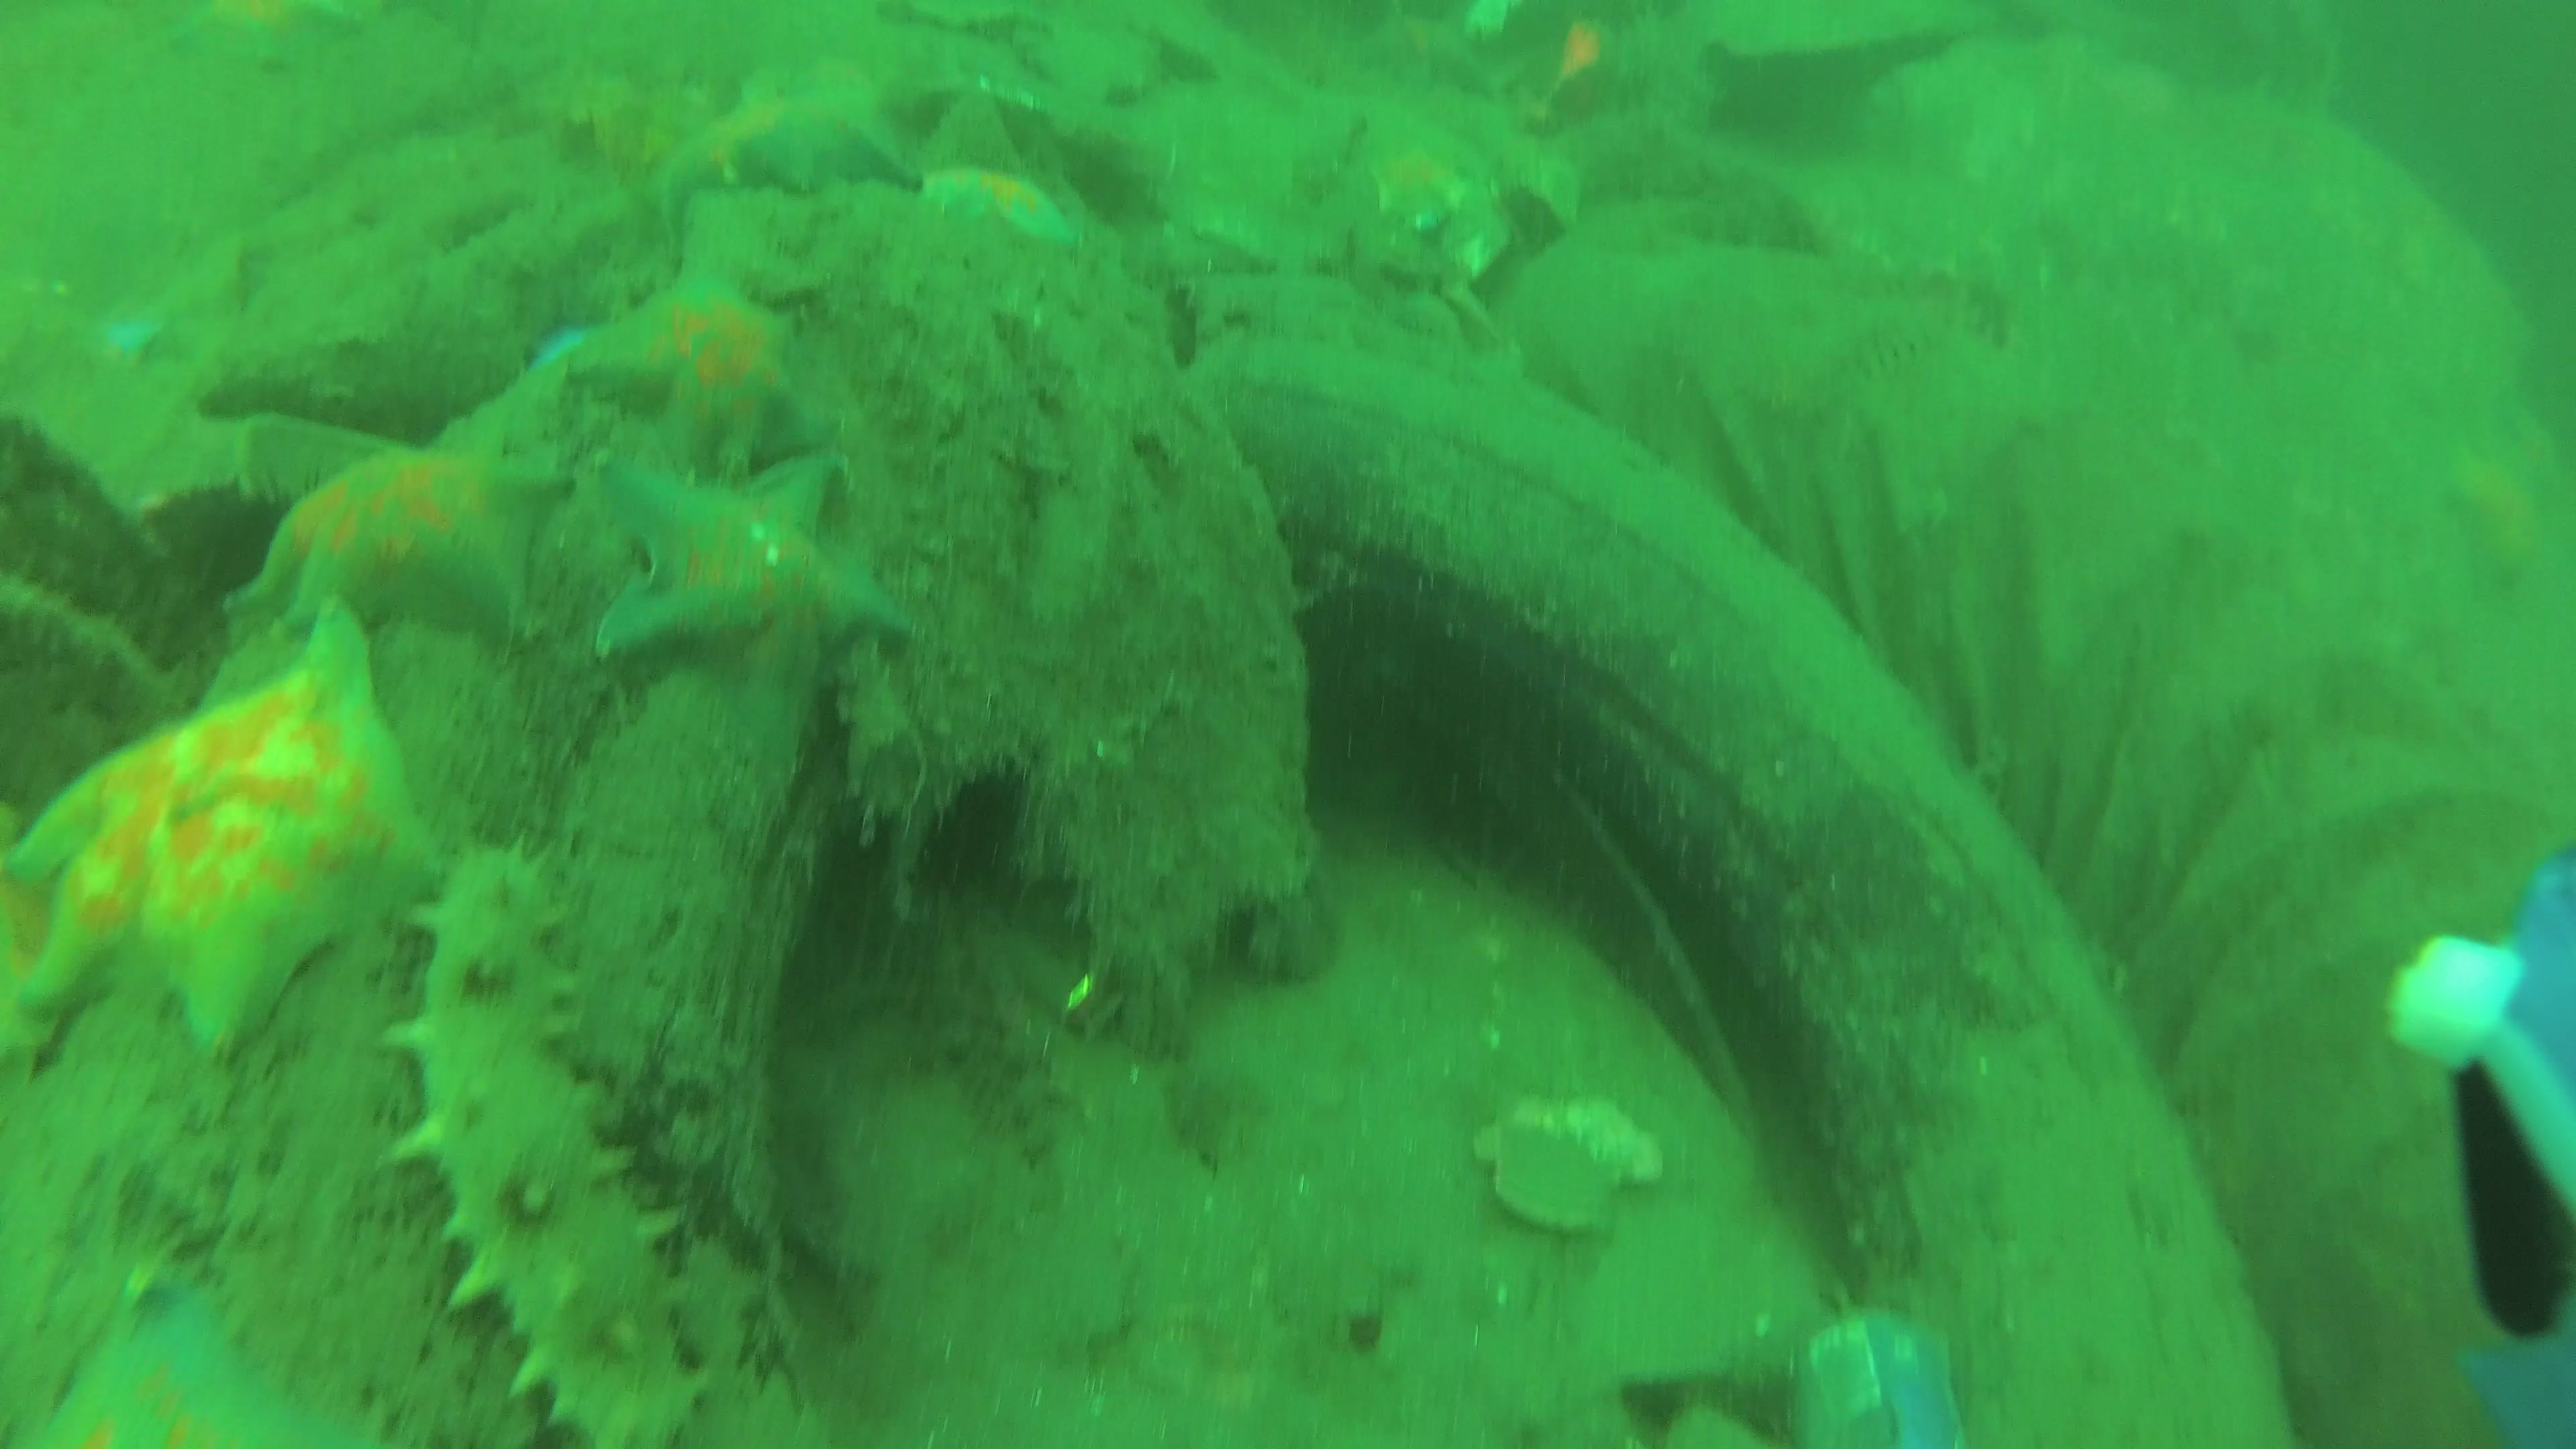echinus: (136, 478, 294, 594)
holothurian: (393, 826, 720, 1449)
scallop: (1472, 1093, 1668, 1235)
starfish: (0, 605, 414, 1062), (596, 451, 918, 669), (28, 1276, 379, 1449), (249, 455, 573, 640), (557, 271, 805, 455), (644, 90, 915, 207), (918, 161, 1086, 251), (2450, 444, 2548, 589)
